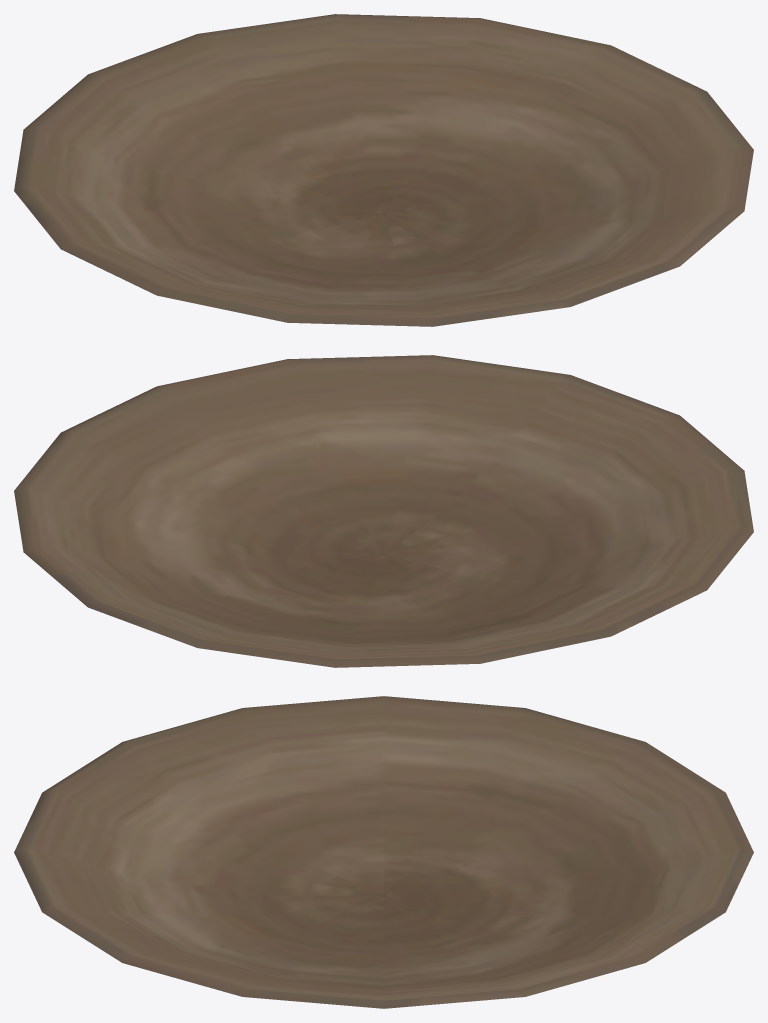
Rendered from Tableware_MiddlePlate01.fbx.
The picture shows the model from 3 angles, top to bottom: view 1: azimuth 30°, elevation 25°; view 2: azimuth 150°, elevation 25°; view 3: azimuth 270°, elevation 25°; orthographic projection.
Parts seen in each view (by area): view 1: Tableware_MiddlePlate01; view 2: Tableware_MiddlePlate01; view 3: Tableware_MiddlePlate01.
Part boxes in pixels (x1=…): Tableware_MiddlePlate01: x1=14, y1=14, x2=753, y2=326; Tableware_MiddlePlate01: x1=14, y1=355, x2=753, y2=667; Tableware_MiddlePlate01: x1=14, y1=696, x2=753, y2=1008.
Bounding box in the file's own units: 15 × 1.55 × 15.
